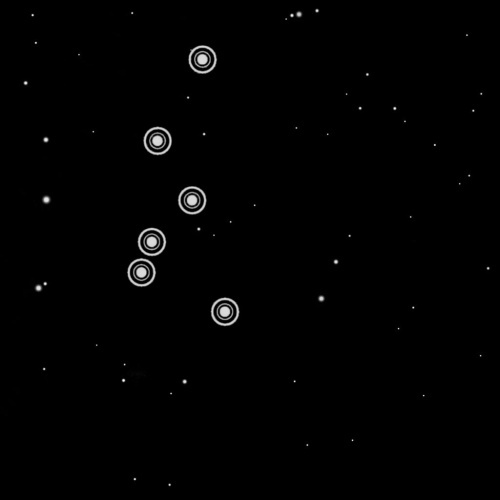cassiopeia: (121, 39, 244, 334)
